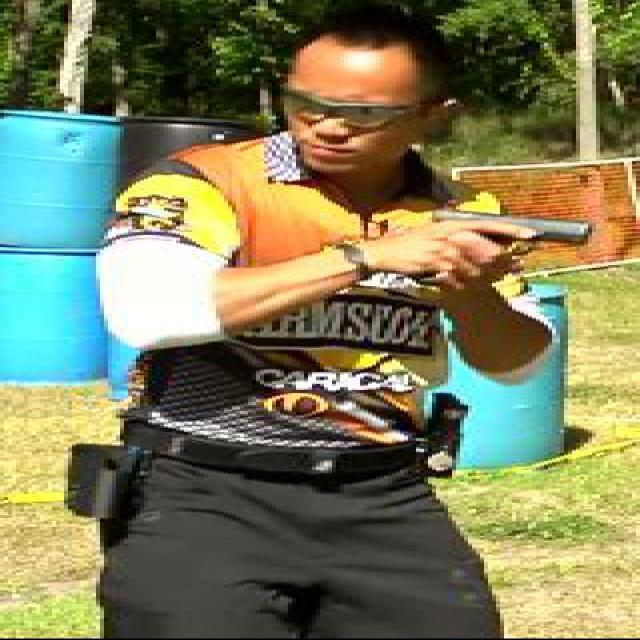Gun: (412, 203, 592, 282)
